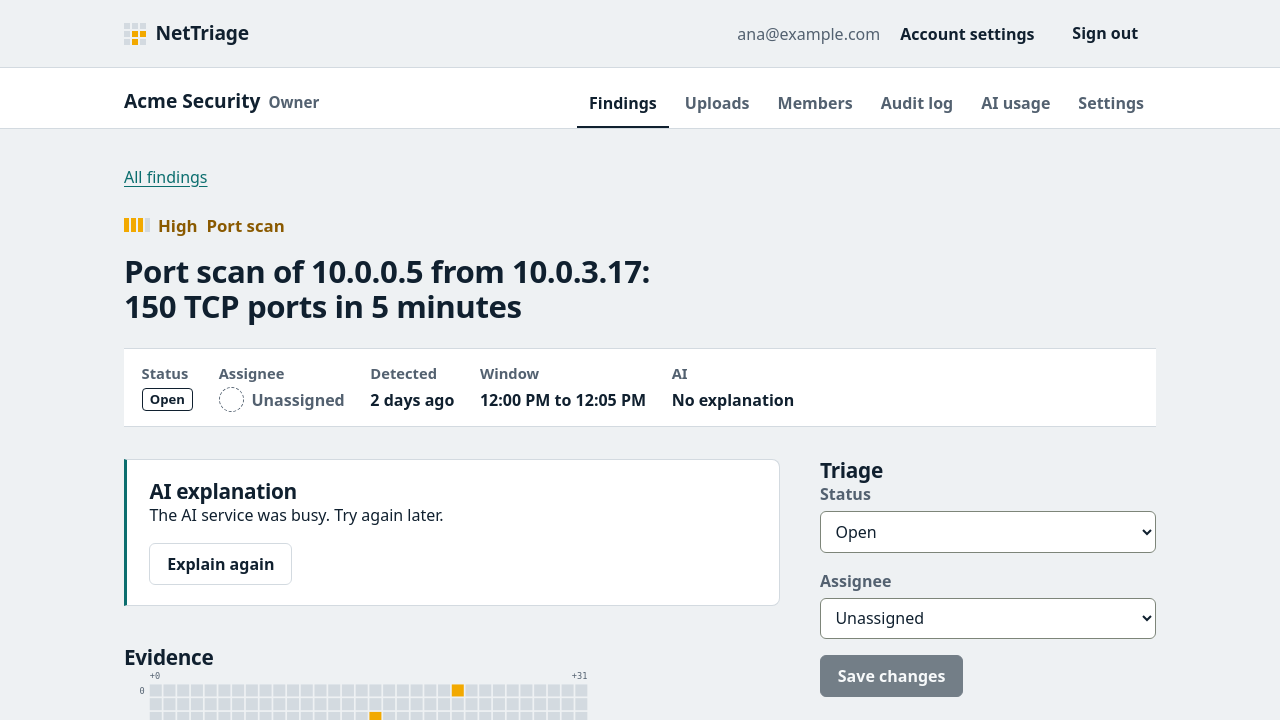
Scenario: asking again queues the finding, and the new explanation appears when it's ready
The image size is (1280, 720).
Expected: the text "The AI service was busy. Try again later." is shown, [149,504,444,526]
Click the button "Explain again" at (221, 564), box [149,543,292,585]
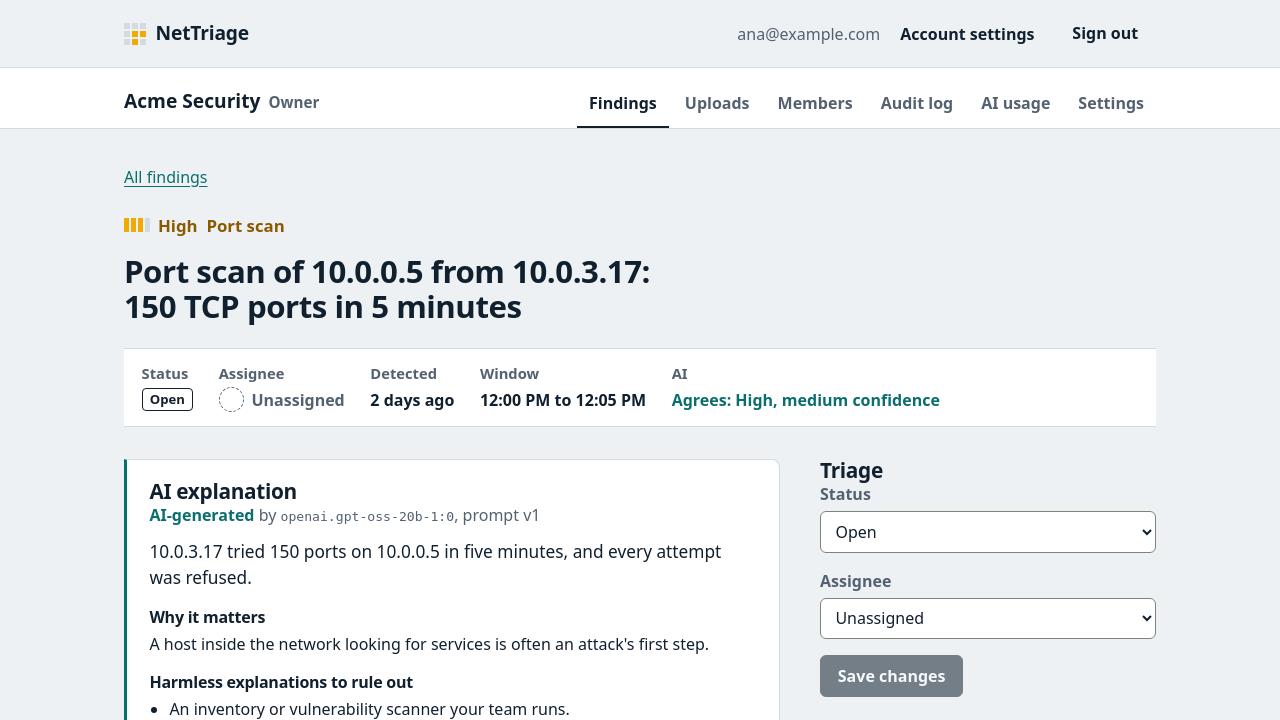
Result: the text "10.0.3.17 tried 150 ports on 10.0.0.5 in five minutes, and every attempt was refused." is shown at [149,540,721,589]
